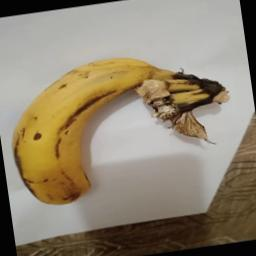Banana Unripe: (0, 40, 242, 211)
